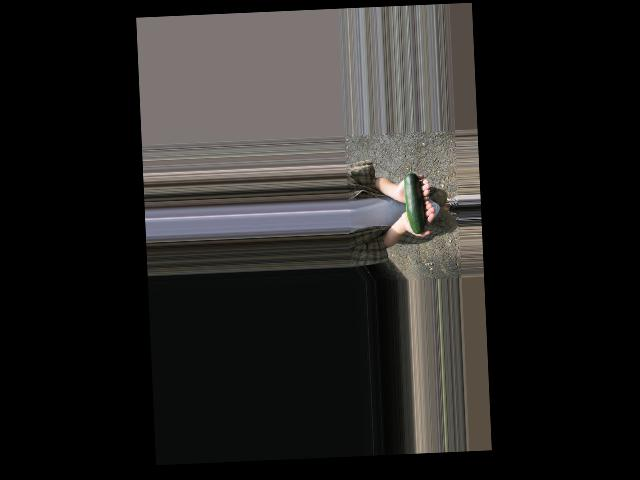cucumber: (403, 165, 426, 234)
